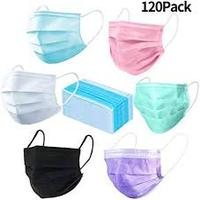flu mask: (101, 142, 179, 198), (26, 9, 103, 63), (109, 18, 179, 76), (20, 144, 91, 197), (133, 79, 198, 134), (2, 69, 62, 123)
